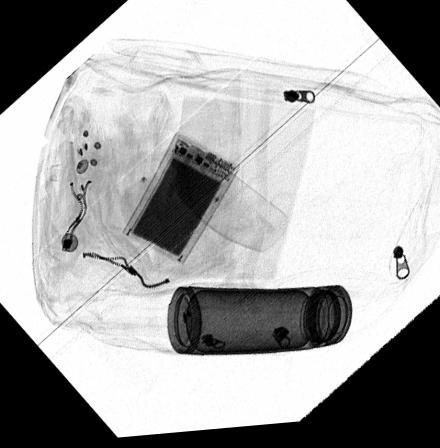Powerbank: (122, 135, 240, 266)
